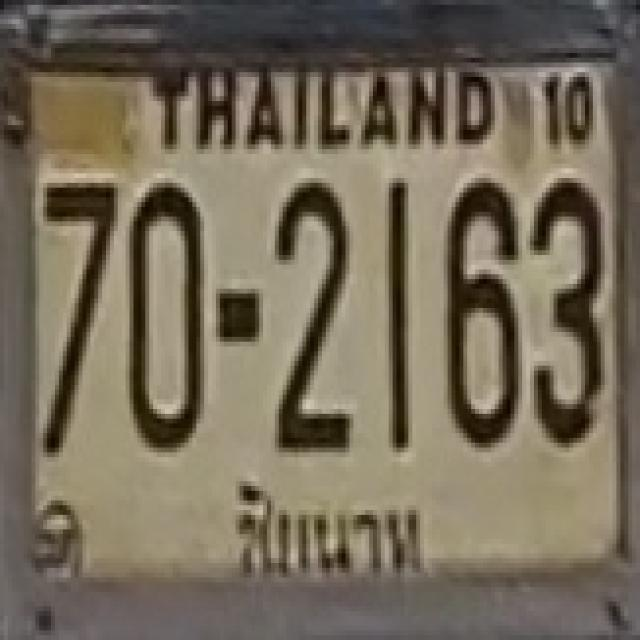0: (126, 178, 200, 448)
1: (385, 176, 420, 455)
2: (271, 178, 360, 458)
3: (526, 176, 601, 440)
6: (444, 176, 514, 445)
7: (43, 180, 119, 467)
CNT: (218, 475, 430, 590)
